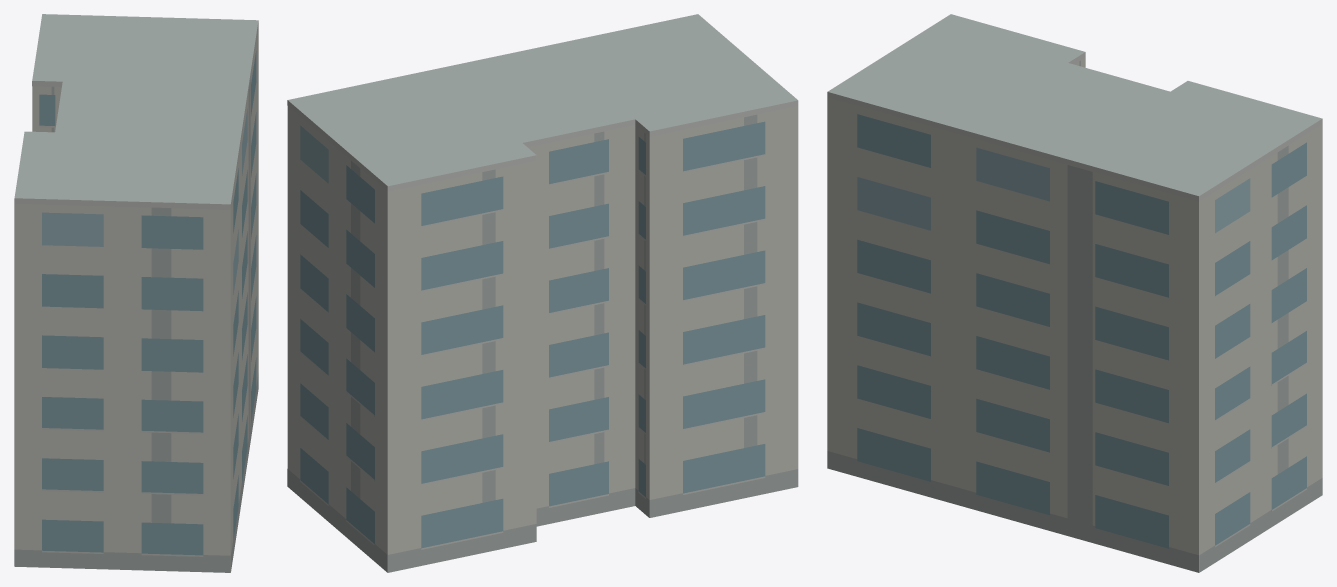
File: survey-upis-32992642.glb
The picture shows the model from 3 angles, left to right: view 1: azimuth 30°, elevation 25°; view 2: azimuth 150°, elevation 25°; view 3: azimuth 270°, elevation 25°; orthographic projection. The views are drawn at different scales.
Visible parts, largest first — view 1: survey-upis-32992642.tmp; view 2: survey-upis-32992642.tmp; view 3: survey-upis-32992642.tmp.
Boxes of the visible parts, x1=… form: survey-upis-32992642.tmp: x1=14, y1=14, x2=258, y2=572; survey-upis-32992642.tmp: x1=287, y1=14, x2=798, y2=572; survey-upis-32992642.tmp: x1=827, y1=14, x2=1322, y2=572.
Size of the model in its own units: 17.24 by 16.6 by 19.79.
